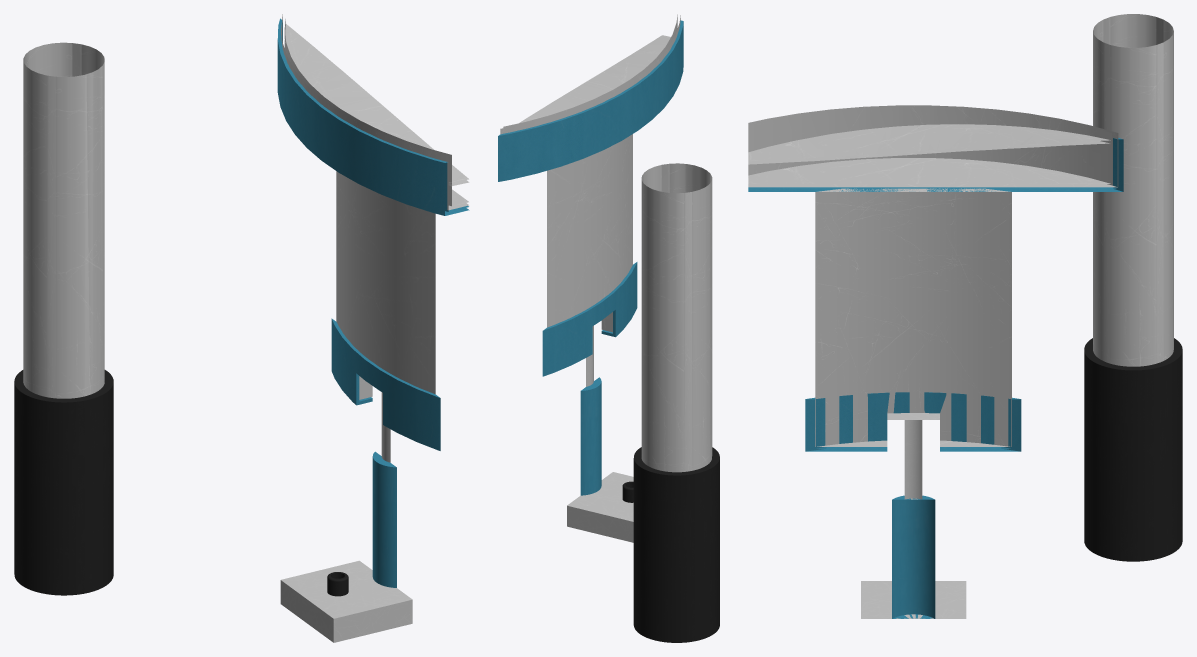
The model's file is Cube02_TightenerStation.glb.
3 renders of one model, left to right at view 1: azimuth 30°, elevation 25°; view 2: azimuth 150°, elevation 25°; view 3: azimuth 270°, elevation 25°, orthographic. The views are drawn at different scales.
Parts seen in each view (by area): view 1: color-2.003; view 2: color-2.003; view 3: color-2.003.
Part boxes in pixels (x1,y1,x2,y2): color-2.003: (14,14,469,642); color-2.003: (498,14,719,642); color-2.003: (748,14,1182,618).
Size of the model in its own units: 0.1653 by 0.32 by 0.247.
Materials: 3 (3 with a texture image).
